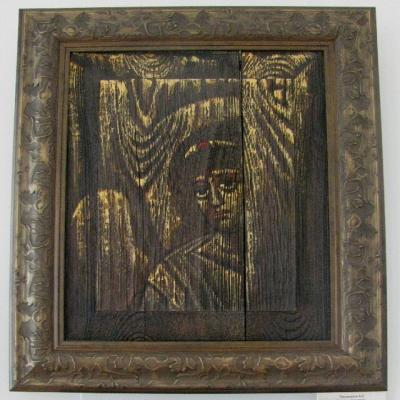painting: (7, 6, 389, 399)
